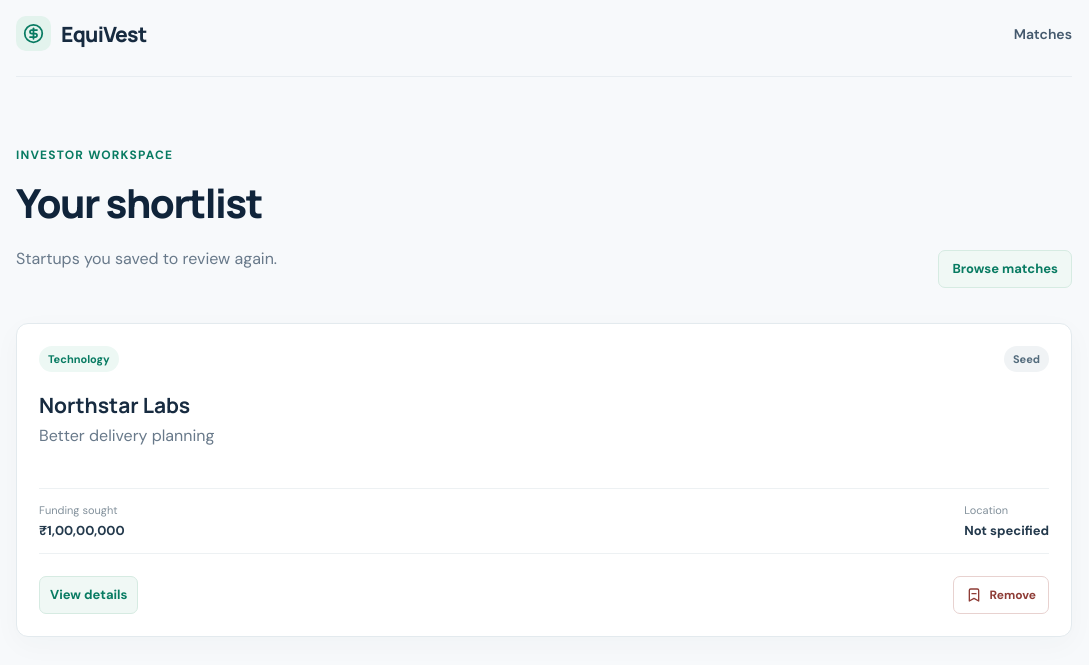
it: investor shortlist page › removes a startup and updates the saved list
Step 1. Click the button "Remove" → click(1001, 595), box [954,576,1049,614]
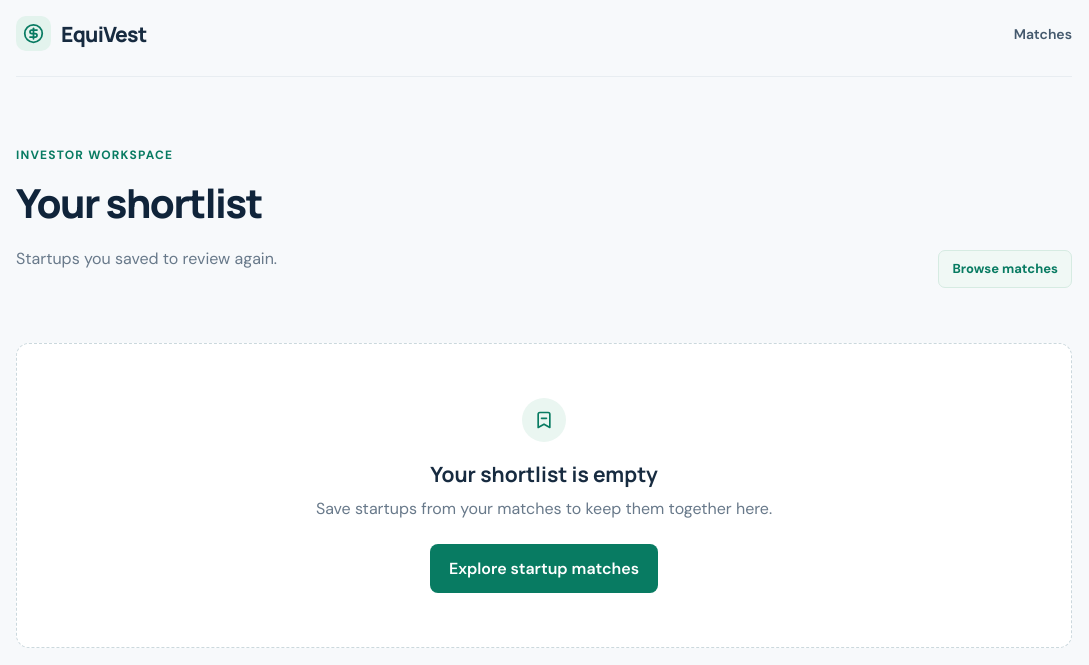
Now the heading "Your shortlist is empty" is shown, box [430,460,658,488]
